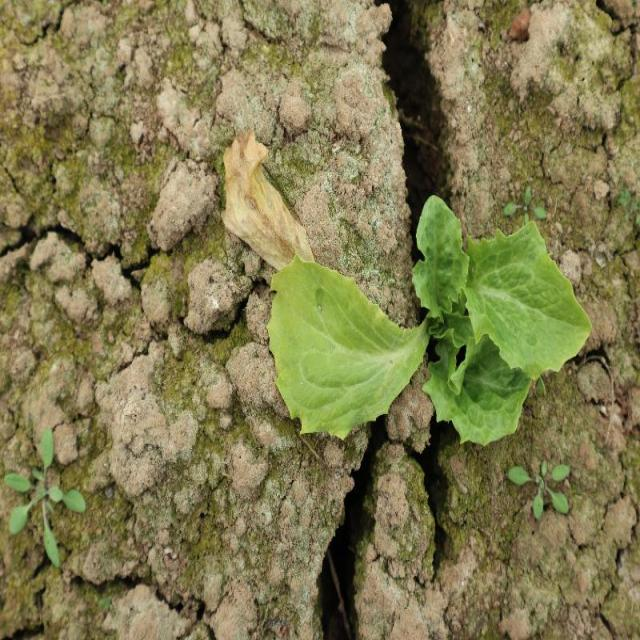crop: (271, 197, 592, 450)
